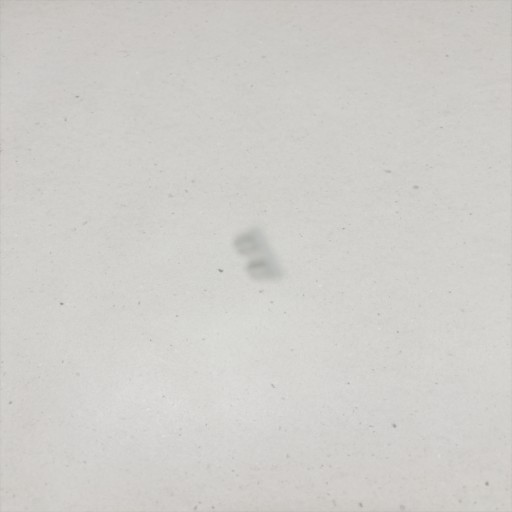lego: (231, 224, 287, 283)
